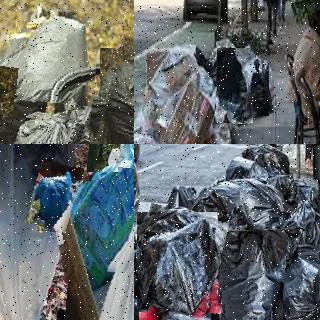Garbage: (0, 144, 84, 320), (0, 0, 99, 122), (58, 166, 134, 320), (134, 207, 223, 316), (206, 228, 285, 320), (11, 97, 134, 144), (208, 176, 300, 235), (90, 42, 134, 144), (29, 161, 79, 231), (271, 249, 320, 320), (216, 48, 255, 124), (144, 298, 251, 320), (287, 197, 320, 254), (220, 150, 270, 186), (245, 59, 272, 117), (241, 144, 291, 175)
